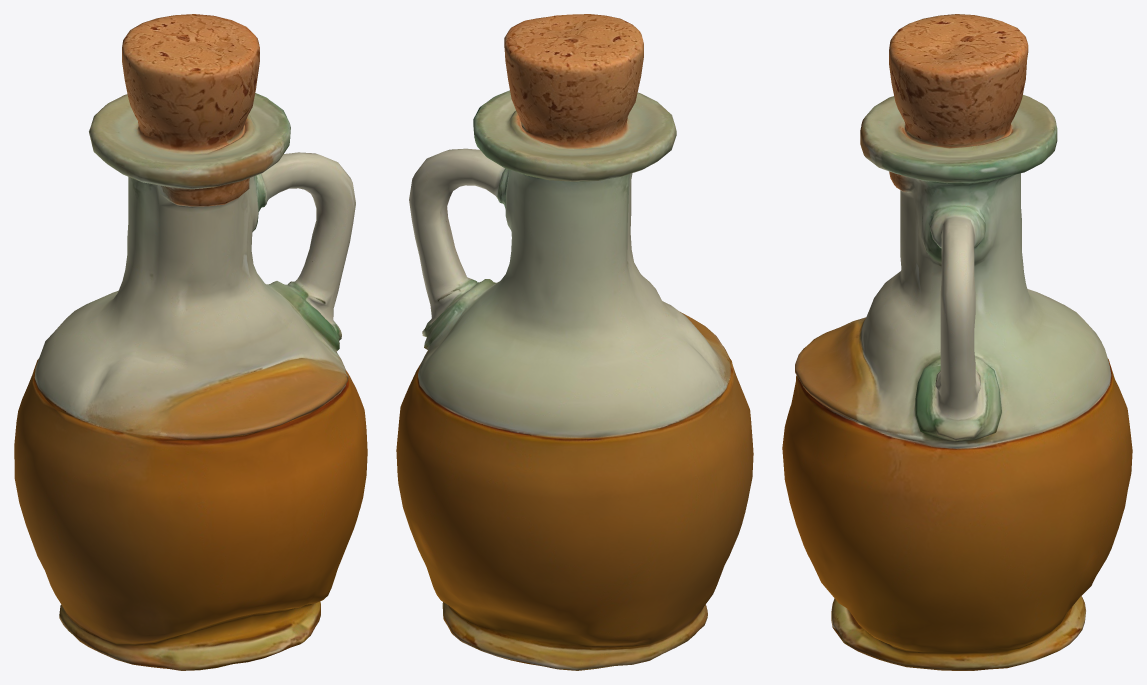
The model's file is oilflask.glb.
The picture shows the model from 3 angles, left to right: view 1: azimuth 30°, elevation 25°; view 2: azimuth 150°, elevation 25°; view 3: azimuth 270°, elevation 25°; orthographic projection.
Visible parts, largest first — view 1: tripo_node_0d45ef0d-ba1b-4526-a2c4-0c512214e9ba; view 2: tripo_node_0d45ef0d-ba1b-4526-a2c4-0c512214e9ba; view 3: tripo_node_0d45ef0d-ba1b-4526-a2c4-0c512214e9ba.
Boxes of the visible parts, x1,y1,x2,y2 form: tripo_node_0d45ef0d-ba1b-4526-a2c4-0c512214e9ba: (14,14,367,670); tripo_node_0d45ef0d-ba1b-4526-a2c4-0c512214e9ba: (396,14,753,670); tripo_node_0d45ef0d-ba1b-4526-a2c4-0c512214e9ba: (782,14,1132,670).
Bounding box in the file's own units: 0.5605 × 0.9776 × 0.5337.
1 material, 1 textured.
